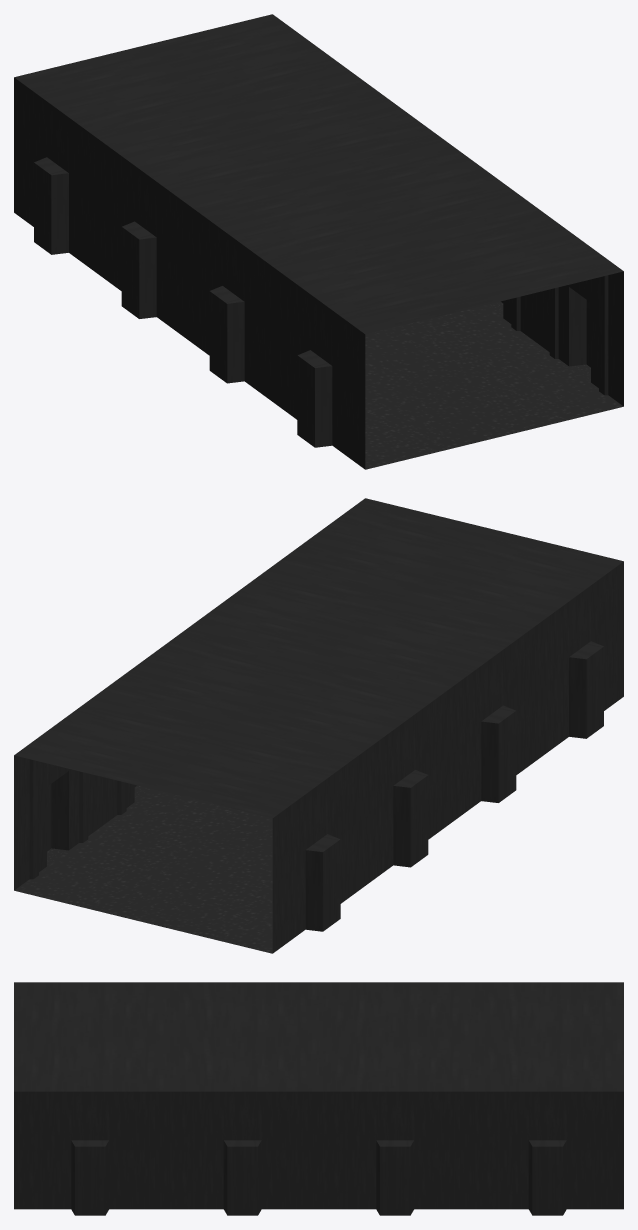
The model's file is SW_ENV_RailTunnel_B_02_Double_20m.fbx.
The picture shows the model from 3 angles, top to bottom: view 1: azimuth 30°, elevation 25°; view 2: azimuth 150°, elevation 25°; view 3: azimuth 270°, elevation 25°; orthographic projection. The views are drawn at different scales.
Visible parts, largest first — view 1: SW_ENV_RailTunnel_B_02_Double_20m; view 2: SW_ENV_RailTunnel_B_02_Double_20m; view 3: SW_ENV_RailTunnel_B_02_Double_20m.
Part boxes in pixels (x1,y1,x2,y2): SW_ENV_RailTunnel_B_02_Double_20m: [14, 14, 623, 469]; SW_ENV_RailTunnel_B_02_Double_20m: [14, 498, 623, 953]; SW_ENV_RailTunnel_B_02_Double_20m: [14, 982, 623, 1215].
Size of the model in its own units: 950 by 425 by 2000.
